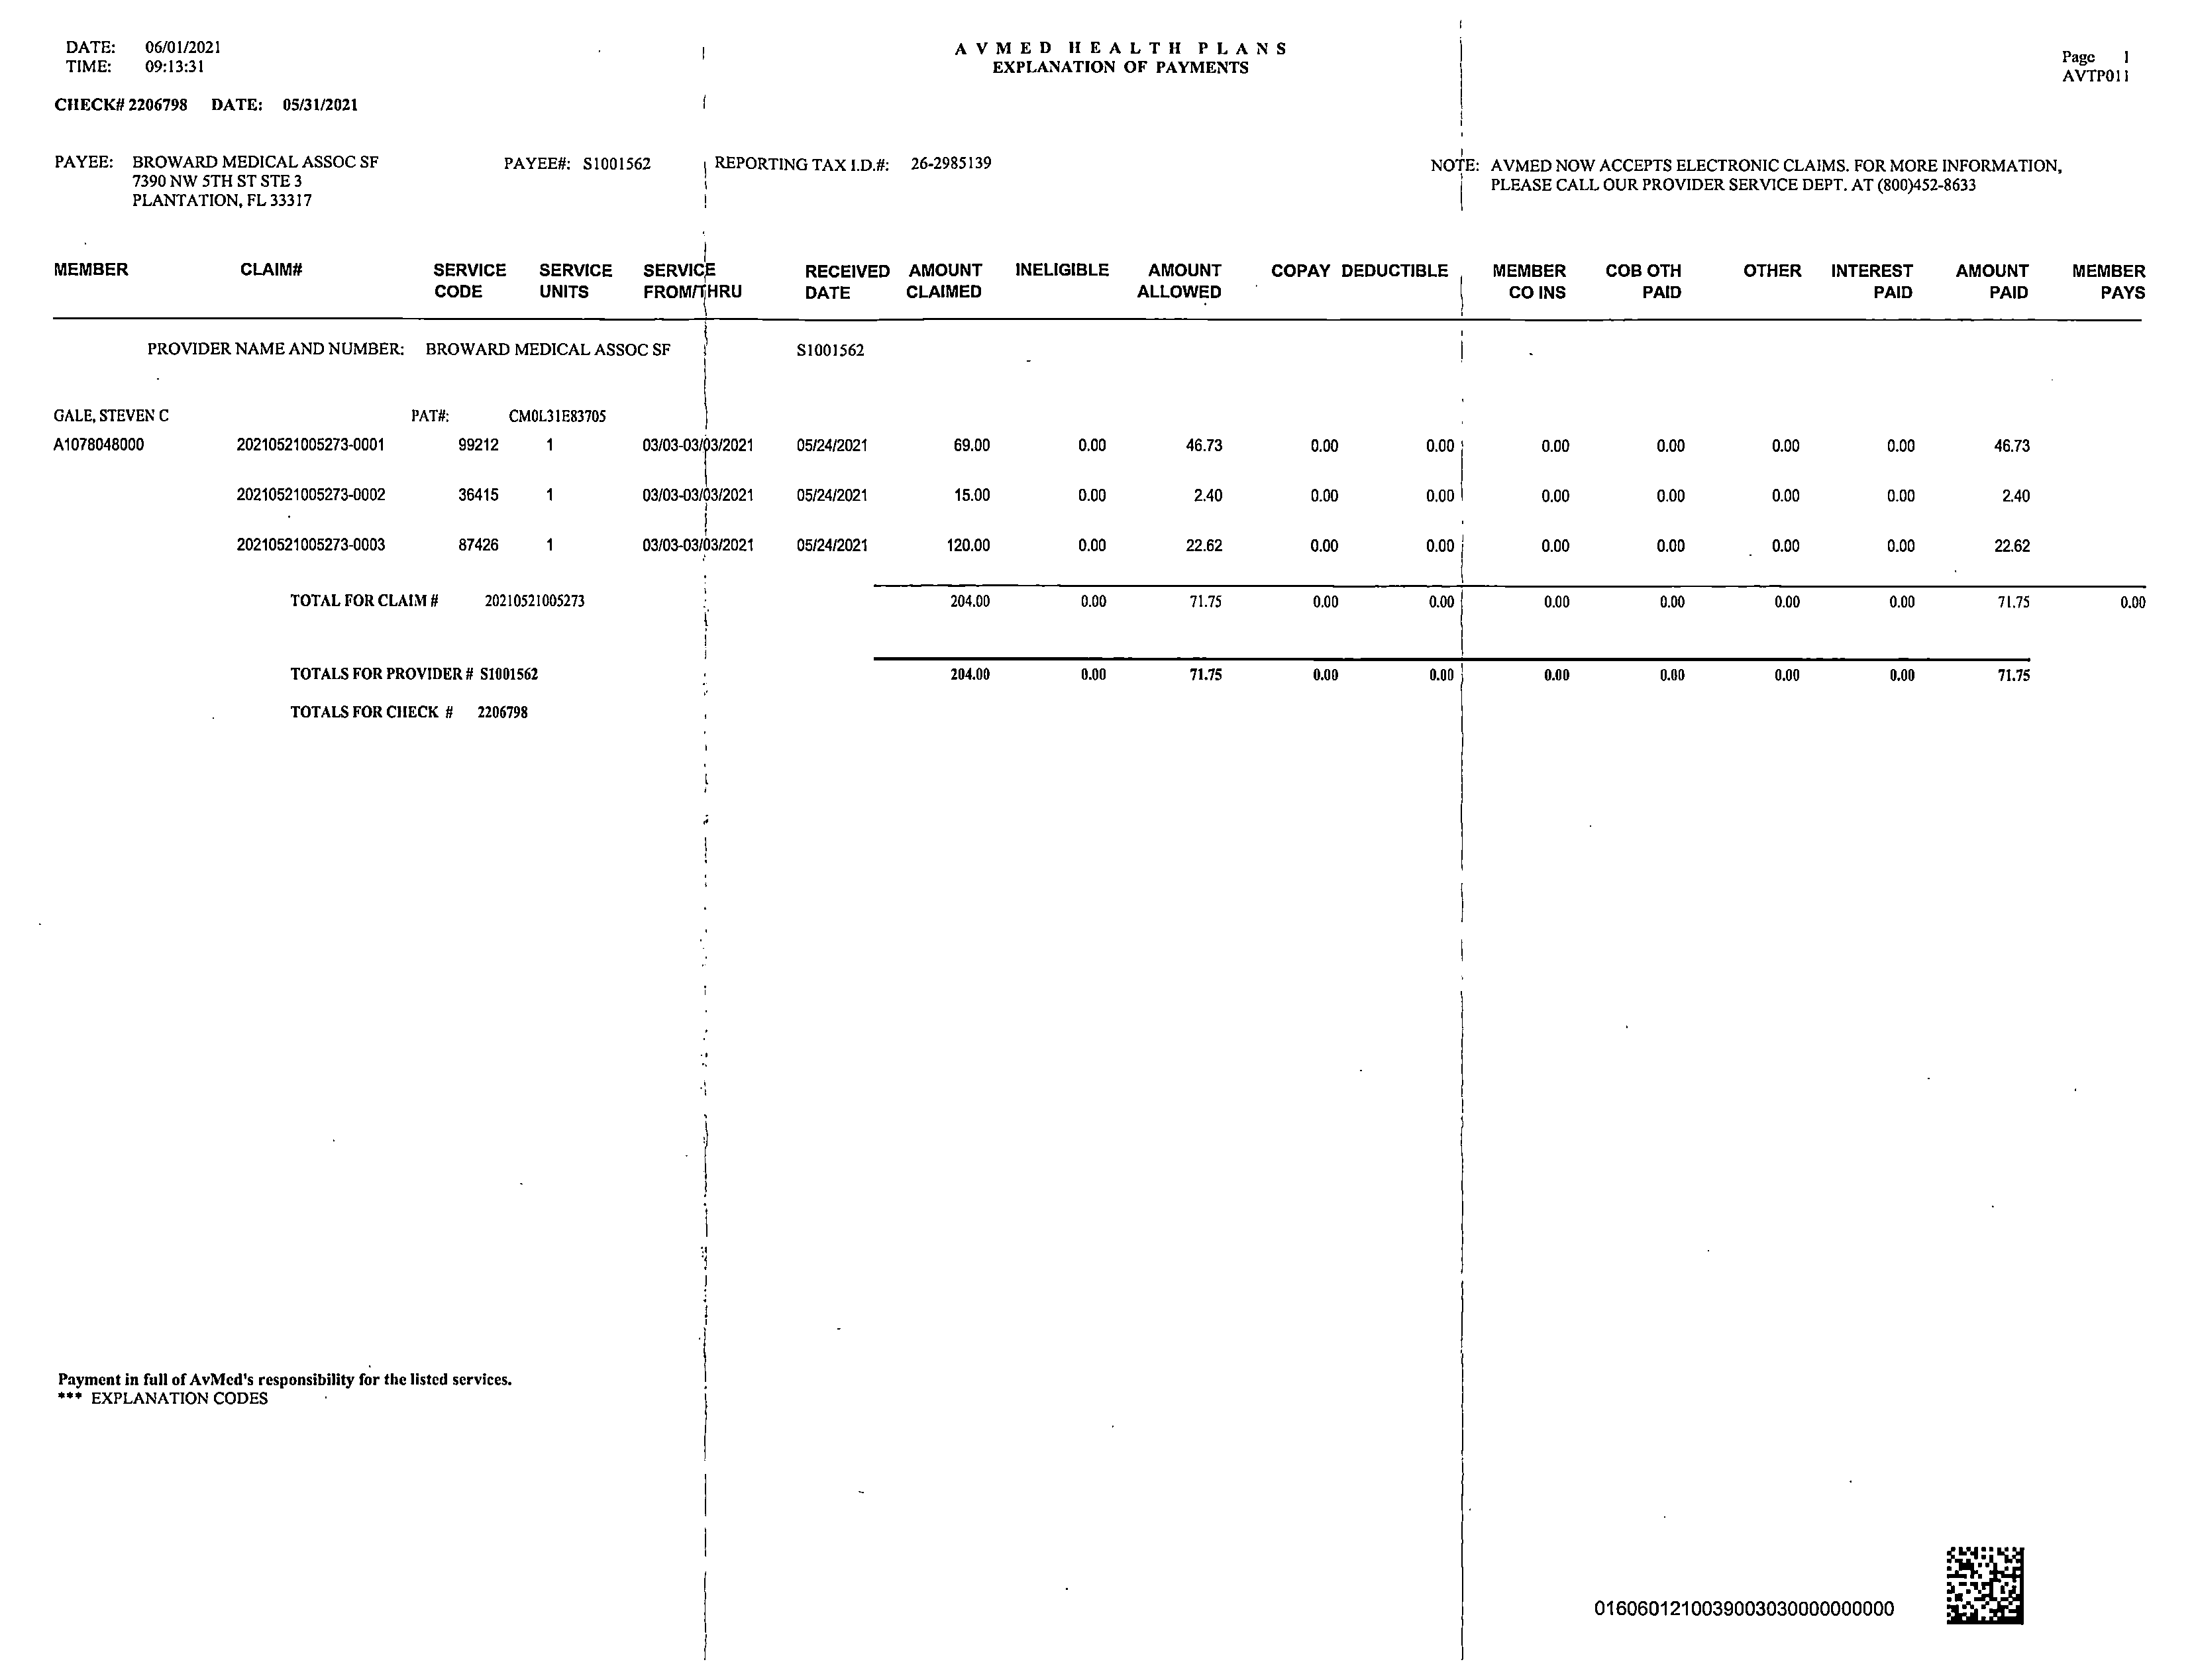data: (42, 134, 390, 222), (501, 129, 1024, 187)
table: (28, 224, 2162, 750)
